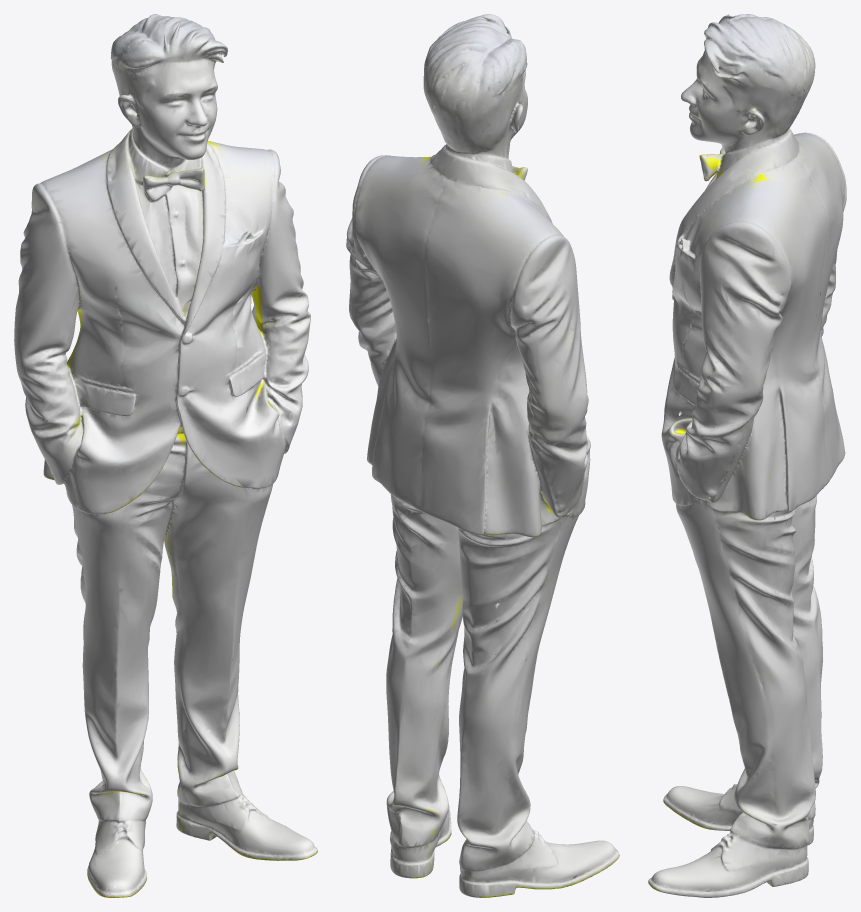
The model's file is HeroModel4.glb.
3 renders of one model, left to right at view 1: azimuth 30°, elevation 25°; view 2: azimuth 150°, elevation 25°; view 3: azimuth 270°, elevation 25°, orthographic.
Size of the model in its own units: 0.6031 by 1.9 by 0.4087.
1 material, 1 textured.
